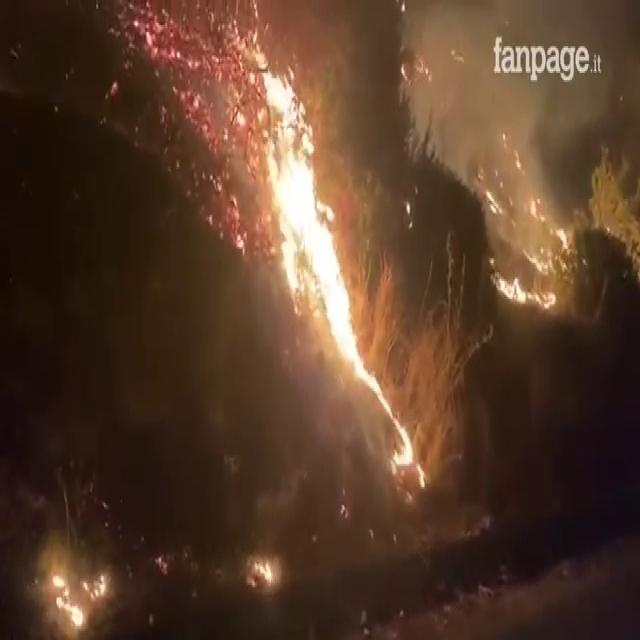Fire: (258, 64, 427, 489), (492, 272, 556, 308), (47, 568, 84, 630)
Smoke: (411, 81, 619, 283)
